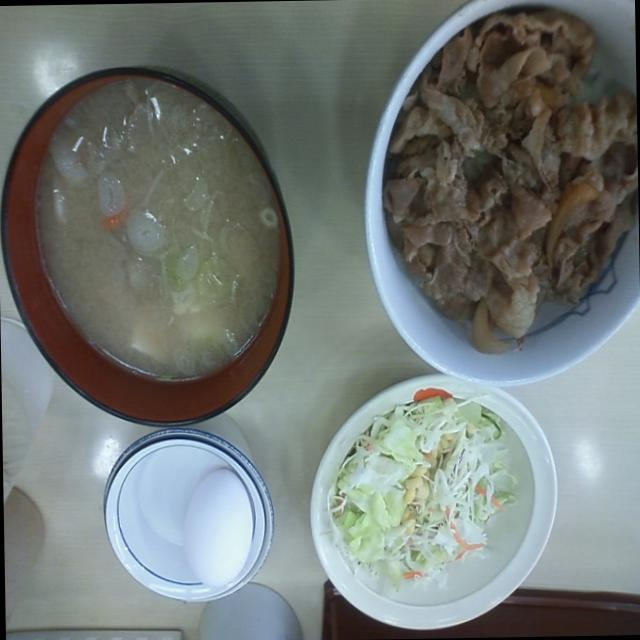Egg: (174, 458, 265, 592)
Green Salad: (320, 392, 507, 600)
